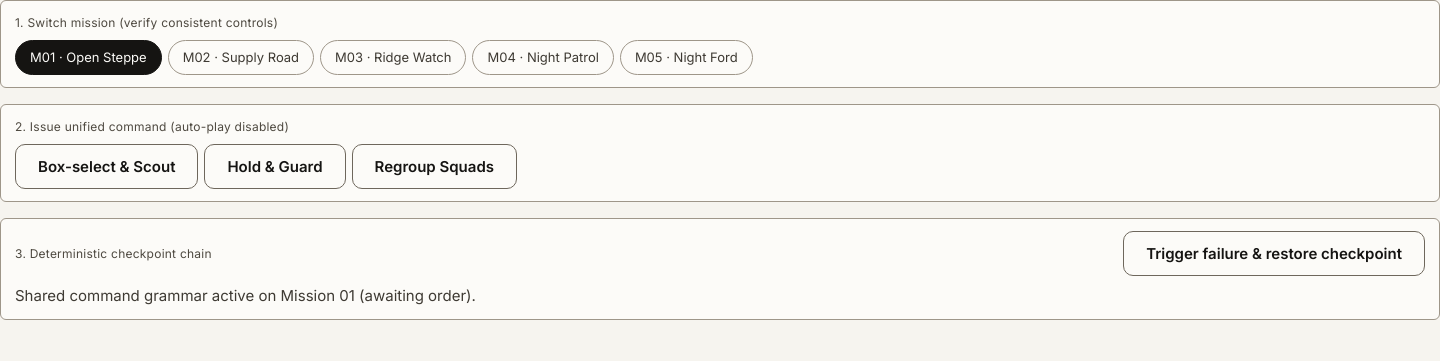
CaseSimulatorFrame & Phase 3.6A Simulators › GrasslandRulesSim validates shared command grammar across missions and restores cleanly from checkpoint
Click the button "M04 · Night Patrol".
click(543, 58)  # box [472,40,614,75]
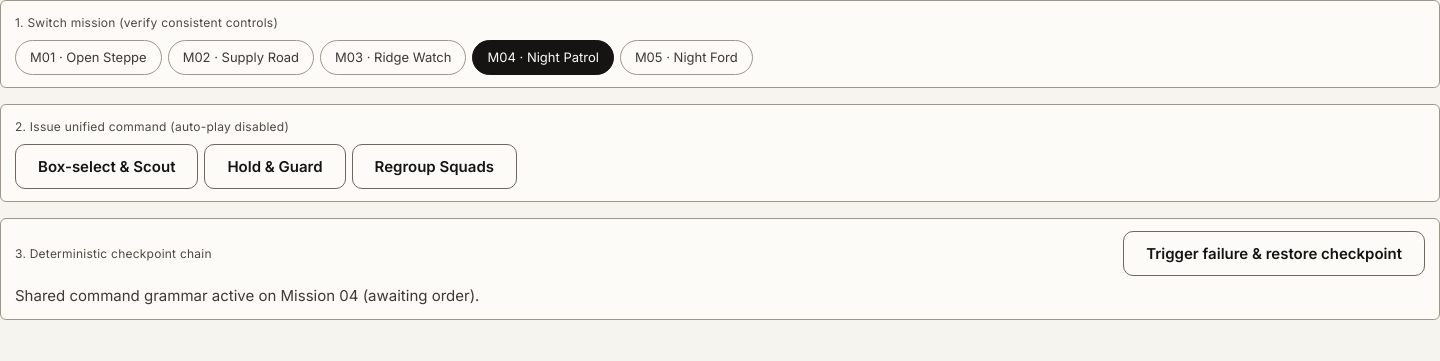
Click the button "Box-select & Scout".
click(107, 167)  # box [15,144,198,189]
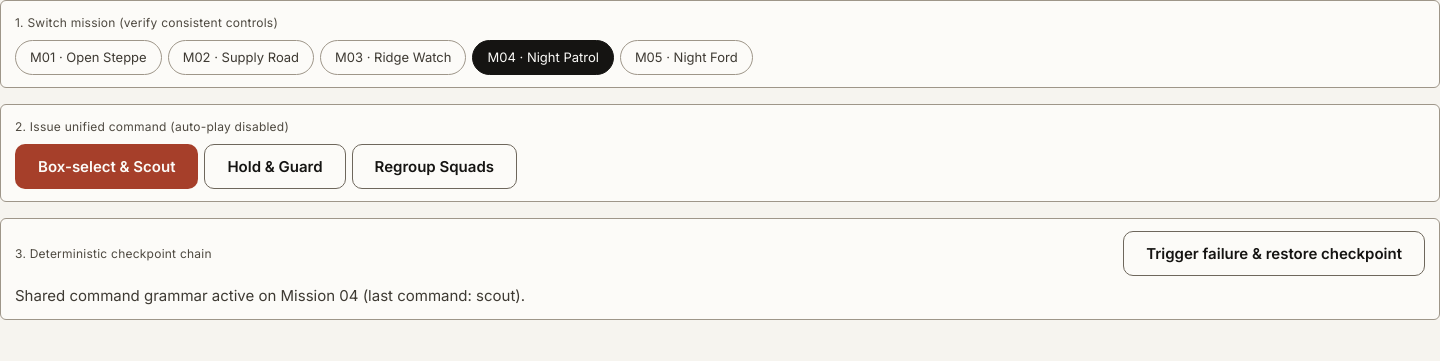
Click the button "Trigger failure & restore checkpoint".
click(1274, 254)  # box [1123,231,1425,276]
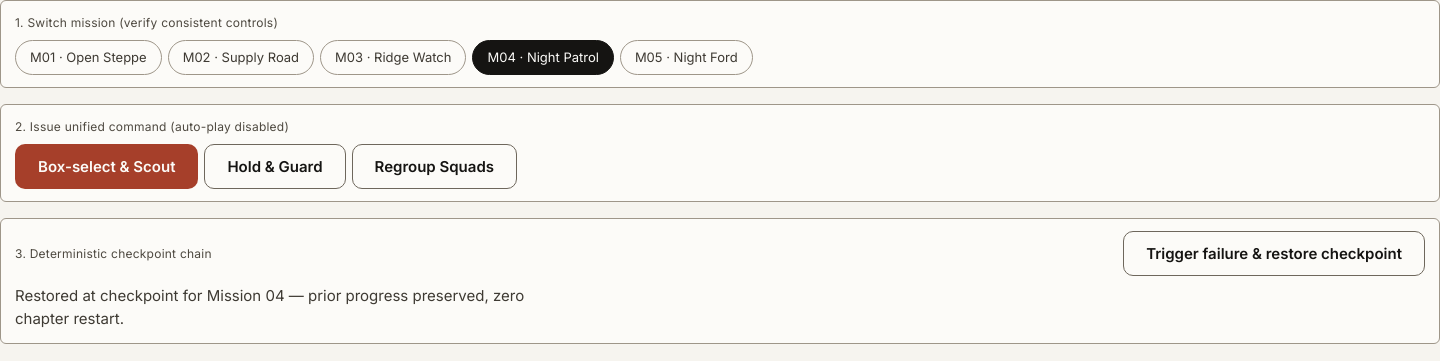
Expected: the text "Restored at checkpoint" is shown, [15,286,524,328]
